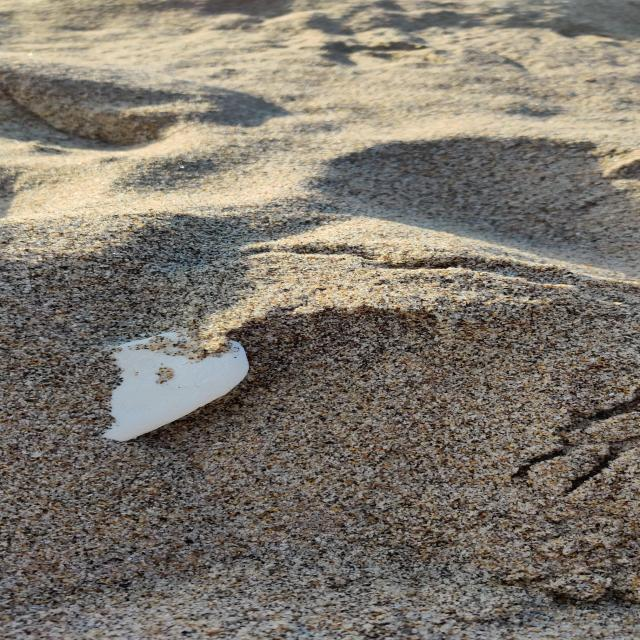litter: (36, 322, 281, 448)
